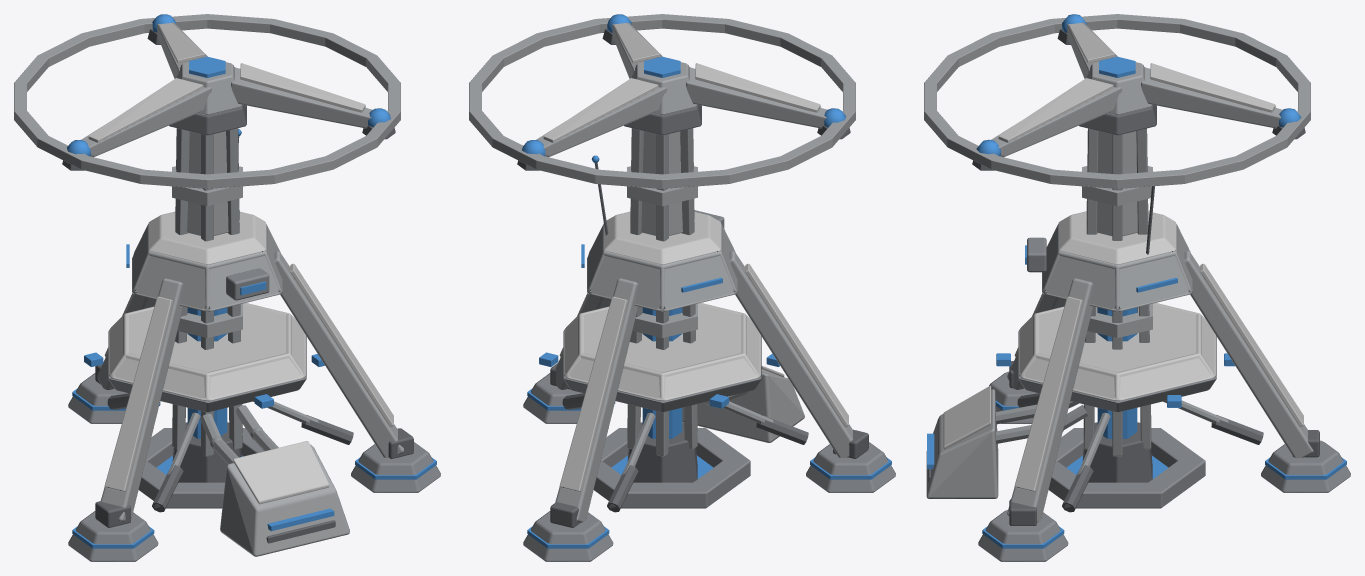
The model's file is lattice_deep_extractor.glb.
3 views of the same model, side by side, from view 1: azimuth 30°, elevation 25°; view 2: azimuth 150°, elevation 25°; view 3: azimuth 270°, elevation 25° (orthographic).
Parts seen in each view (by area): view 1: Body, Rotor_Y; view 2: Body, Rotor_Y; view 3: Body, Rotor_Y.
Boxes of the visible parts, x1=… form: Body: x1=68, y1=104, x2=440, y2=561; Rotor_Y: x1=14, y1=14, x2=400, y2=188; Body: x1=523, y1=104, x2=895, y2=561; Rotor_Y: x1=469, y1=14, x2=855, y2=188; Body: x1=926, y1=104, x2=1350, y2=561; Rotor_Y: x1=924, y1=14, x2=1310, y2=188.
Size of the model in its own units: 6.15 by 6.86 by 6.46.
